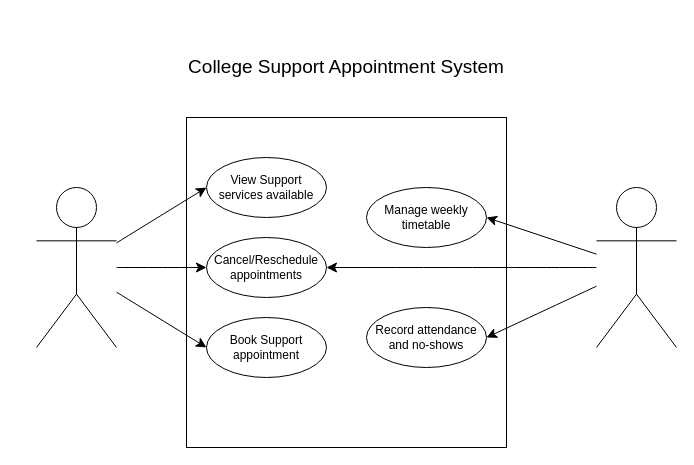
Image size: 694x465. Some labels were removed from this diagram. Here are the shapes that lost their labels. From the top down, the centre of each, then its label:
At point (76, 267): "Authenticated Student".
At point (636, 267): "Support Staff".
